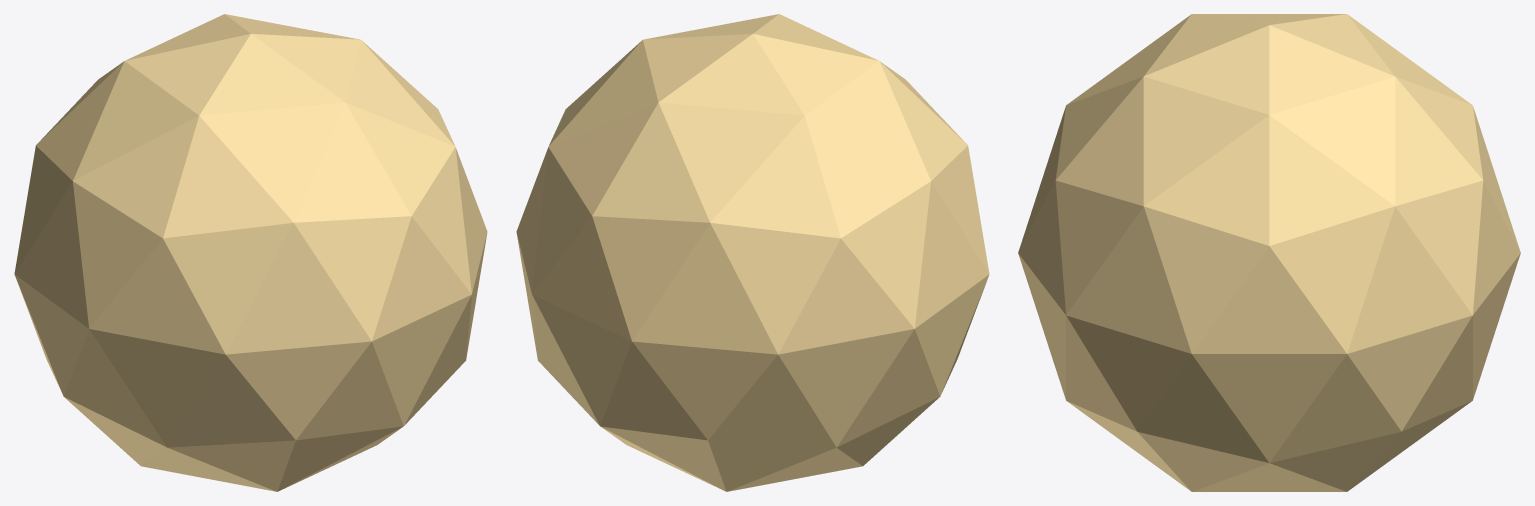
The model's file is luna.glb.
3 renders of one model, left to right at view 1: azimuth 30°, elevation 25°; view 2: azimuth 150°, elevation 25°; view 3: azimuth 270°, elevation 25°, orthographic. The views are drawn at different scales.
Visible parts, largest first — view 1: Aura; view 2: Aura; view 3: Aura.
Part boxes in pixels (x1,y1,x2,y2): Aura: (14, 14, 487, 491); Aura: (516, 14, 989, 491); Aura: (1018, 14, 1520, 491).
Size of the model in its own units: 1.9 by 2 by 2.
